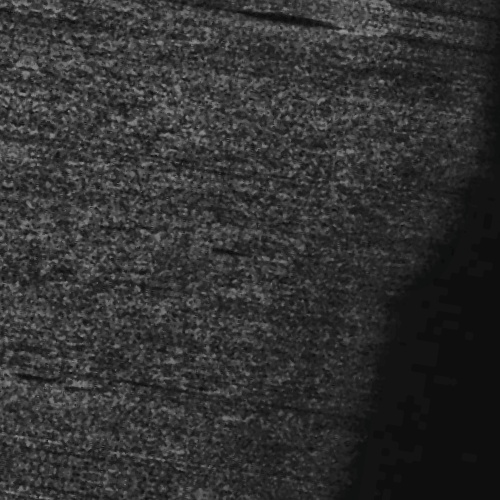object: (298, 9, 381, 18)
shadow: (199, 9, 339, 18)
